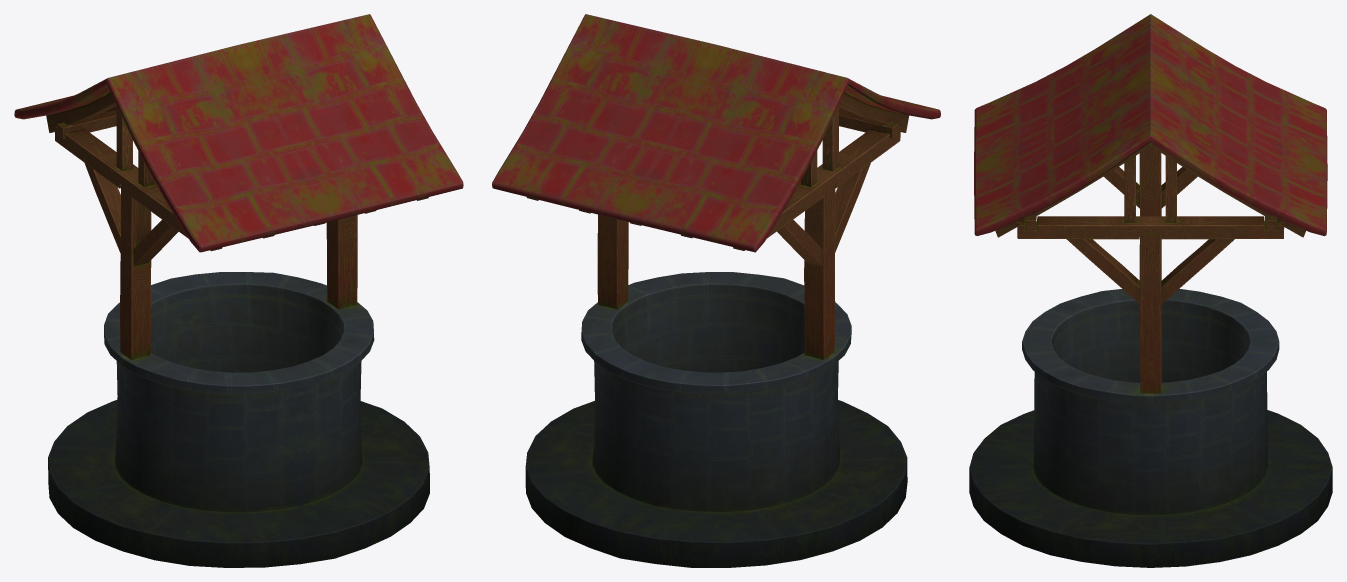
File: well.obj
The picture shows the model from 3 angles, left to right: view 1: azimuth 30°, elevation 25°; view 2: azimuth 150°, elevation 25°; view 3: azimuth 270°, elevation 25°; orthographic projection. The views are drawn at different scales.
Visible parts, largest first — view 1: Well.002_Cylinder.004, Roof.002_Cube.039, TSupport.004_Cube.034, TSupport.005_Cube.040, SideSupport2.002_Cube.036, MiddlePillar.002_Cube.035, RoofSupport.002_Cube.038, SideSupport.002_Cube.037; view 2: Well.002_Cylinder.004, Roof.002_Cube.039, TSupport.004_Cube.034, TSupport.005_Cube.040, SideSupport2.002_Cube.036, MiddlePillar.002_Cube.035, RoofSupport.002_Cube.038, SideSupport.002_Cube.037; view 3: Well.002_Cylinder.004, Roof.002_Cube.039, TSupport.005_Cube.040, TSupport.004_Cube.034, SideSupport2.002_Cube.036, MiddlePillar.002_Cube.035, RoofSupport.002_Cube.038.
Part boxes in pixels (x1,y1,x2,y2): Well.002_Cylinder.004: (48,272,429,567); Roof.002_Cube.039: (14,14,463,252); TSupport.004_Cube.034: (120,184,357,359); TSupport.005_Cube.040: (55,126,188,238); SideSupport2.002_Cube.036: (84,163,178,266); MiddlePillar.002_Cube.035: (116,105,154,187); RoofSupport.002_Cube.038: (46,92,428,251); SideSupport.002_Cube.037: (57,109,116,138); Well.002_Cylinder.004: (525,272,907,567); Roof.002_Cube.039: (492,14,940,252); TSupport.004_Cube.034: (597,184,835,359); TSupport.005_Cube.040: (767,126,900,238); SideSupport2.002_Cube.036: (777,163,870,266); MiddlePillar.002_Cube.035: (801,105,838,186); RoofSupport.002_Cube.038: (526,92,909,250); SideSupport.002_Cube.037: (839,109,898,138); Well.002_Cylinder.004: (969,289,1332,567); Roof.002_Cube.039: (974,14,1327,236); TSupport.005_Cube.040: (1017,216,1284,239); TSupport.004_Cube.034: (1139,146,1161,393); SideSupport2.002_Cube.036: (1066,166,1234,304); MiddlePillar.002_Cube.035: (1124,156,1176,223); RoofSupport.002_Cube.038: (995,142,1305,237).
Size of the model in its own units: 2.56 by 3.27 by 2.57.
